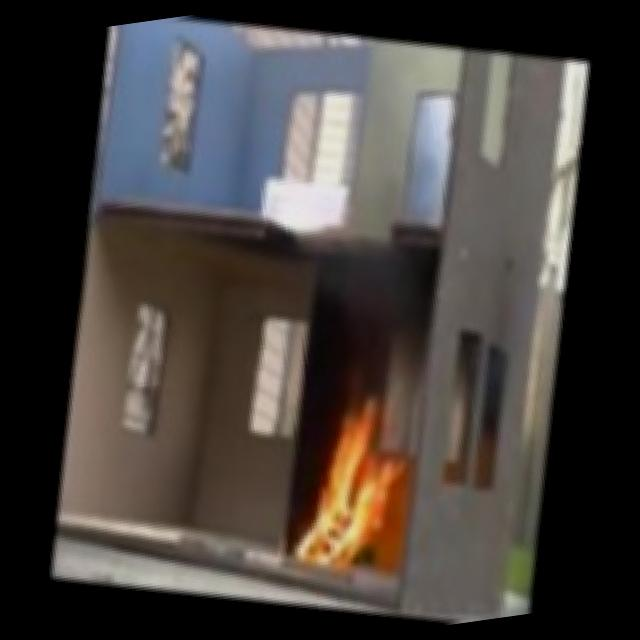fire: (262, 374, 430, 592)
